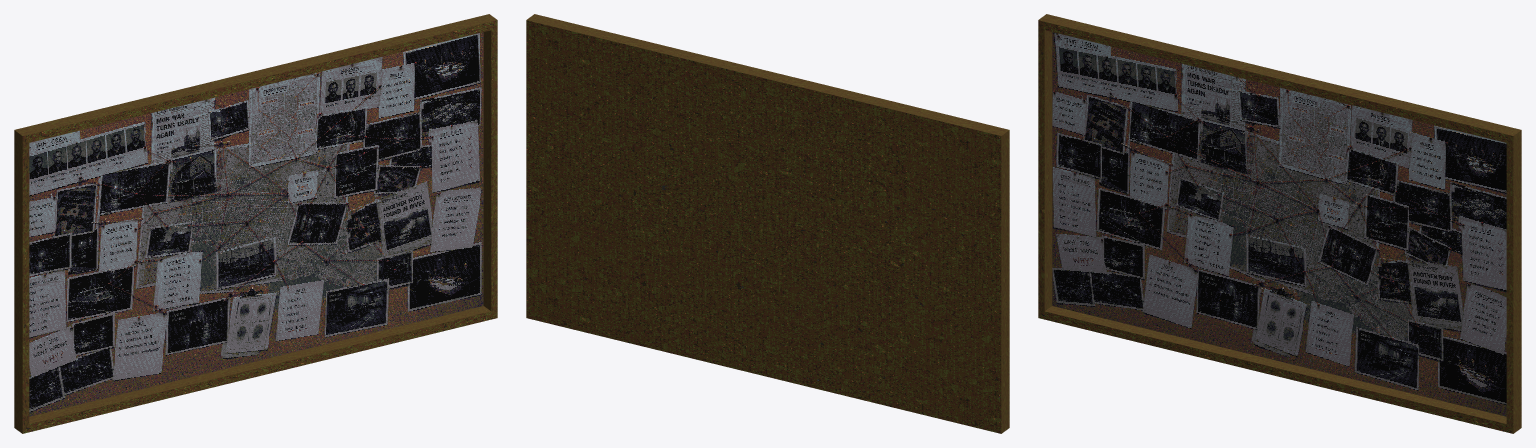
The model's file is bilboard.glb.
3 views of the same model, side by side, from view 1: azimuth 30°, elevation 25°; view 2: azimuth 150°, elevation 25°; view 3: azimuth 330°, elevation 25° (orthographic).
Parts seen in each view (by area): view 1: polySurface113; view 2: polySurface113; view 3: polySurface113.
Boxes of the visible parts, x1=… form: polySurface113: x1=14, y1=14, x2=497, y2=433; polySurface113: x1=526, y1=14, x2=1009, y2=433; polySurface113: x1=1038, y1=14, x2=1521, y2=433.
Size of the model in its own units: 0.0946 by 0.0567 by 0.00294.
Materials: 2 (2 with a texture image).
